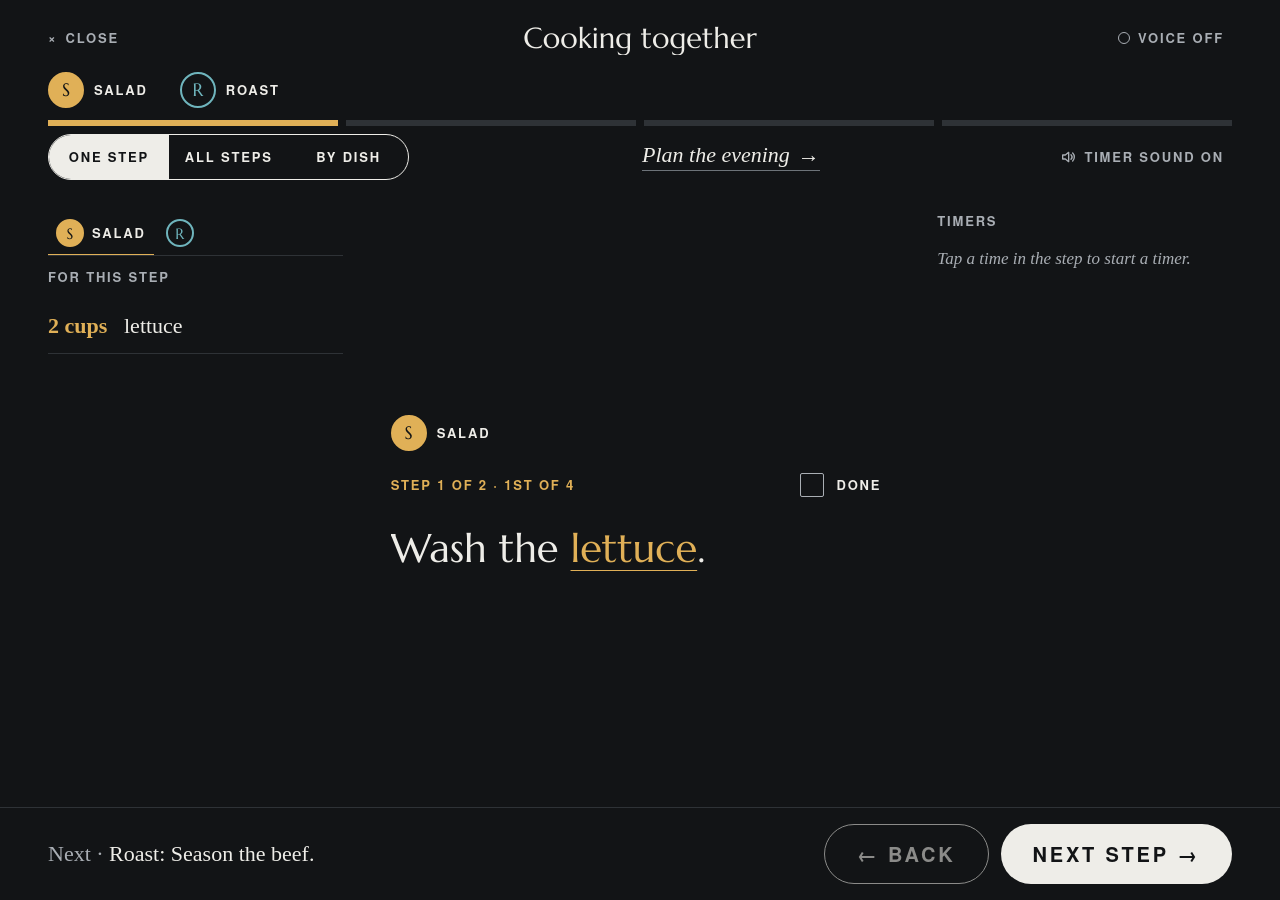
Scenario: Plan the evening › shows start times for a serve time
The image size is (1280, 900).
Click the button "Plan the evening →" at {"x": 731, "y": 157}, box 642,135 -> 820,179
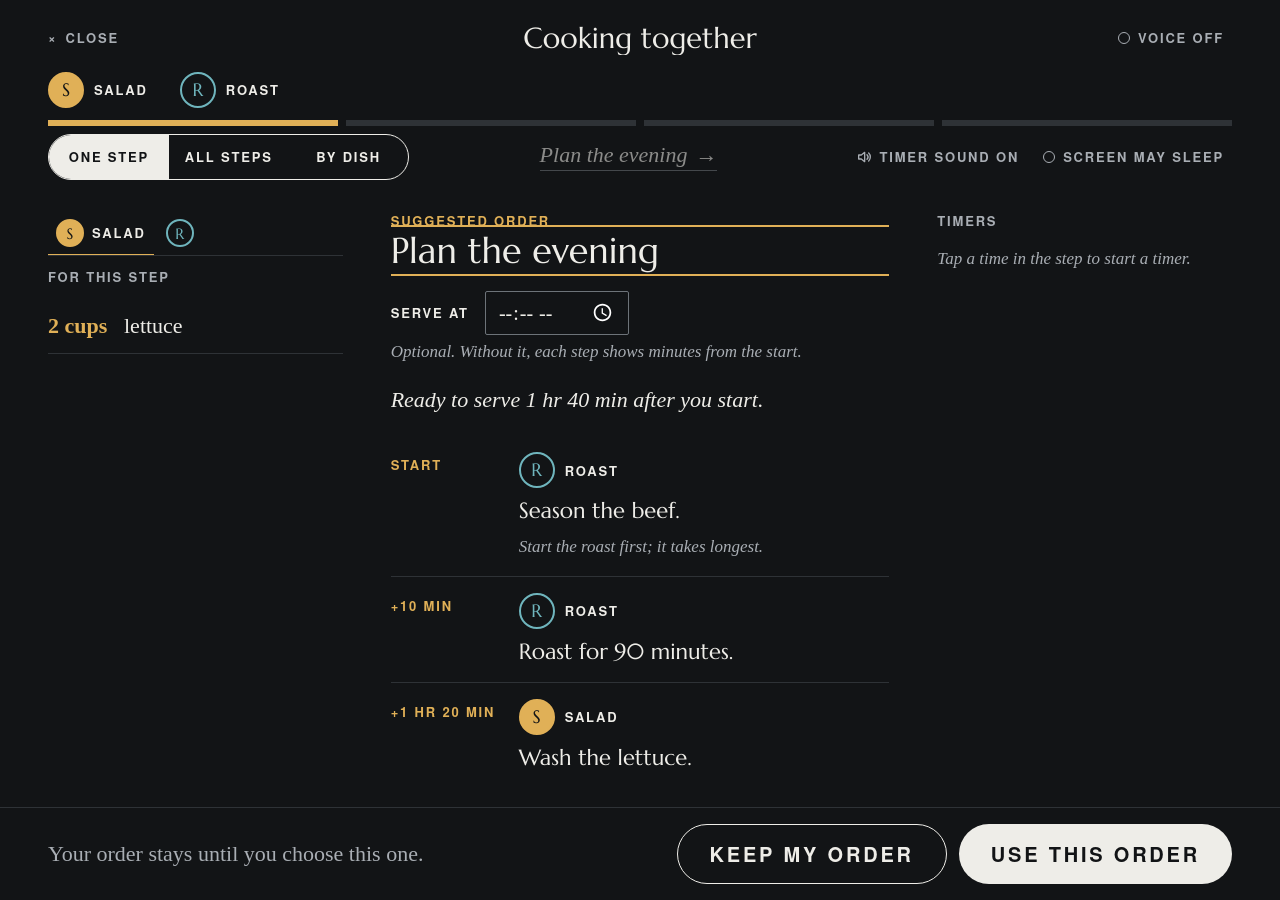
Now the list named "Suggested order" is shown, box 391,436 -> 889,775
Type "19:00" into the time field labelled "Serve at" at {"x": 557, "y": 313}, box 485,291 -> 629,335
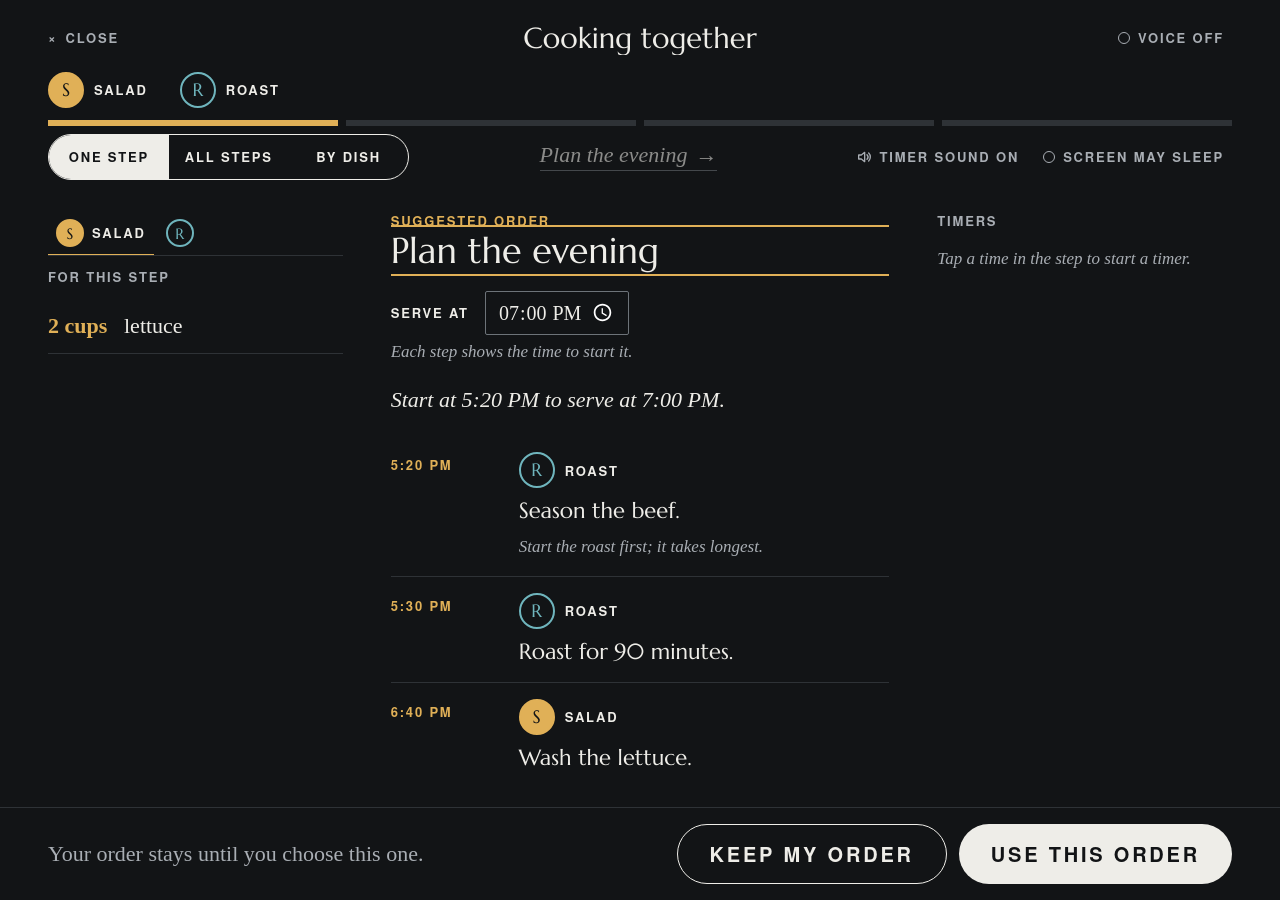
Now the text "Start at 5:20 PM to serve at 7:00 PM." is shown, box 391,387 -> 725,412
Now the list item that starts with "5:20 PM" is shown, box 391,455 -> 453,474
Clear the time field labelled "Serve at" at {"x": 557, "y": 313}, box 485,291 -> 629,335
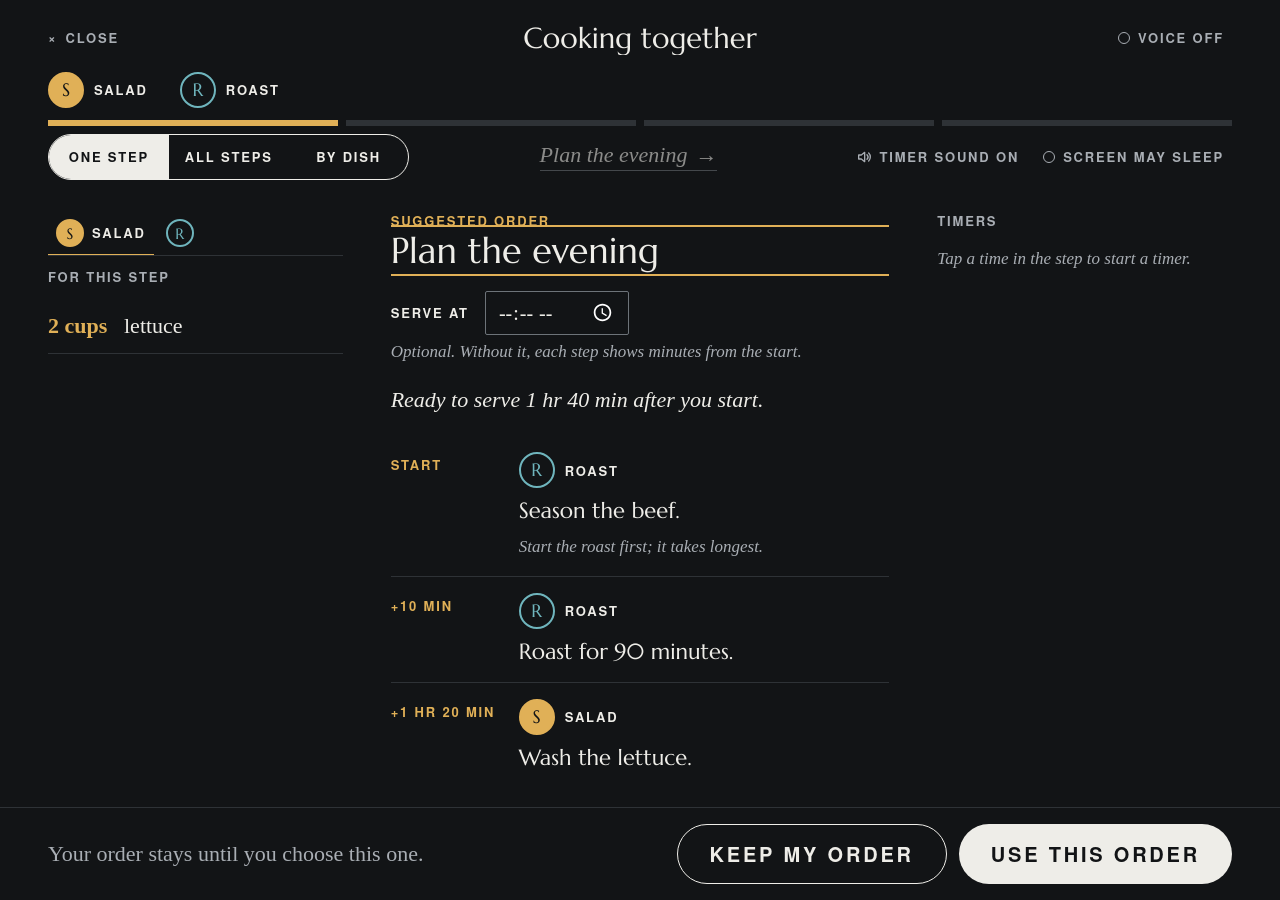
Now the list item that starts with "Start" is shown, box 391,455 -> 442,474
